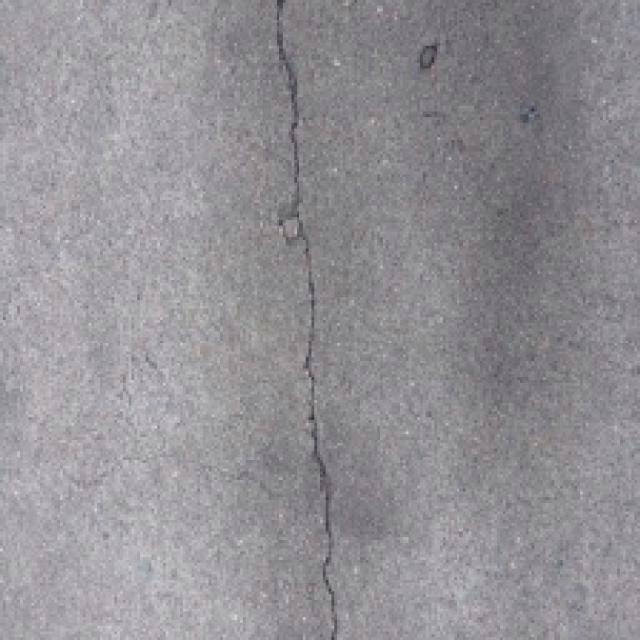SurfaceCrack: (238, 0, 398, 640)
